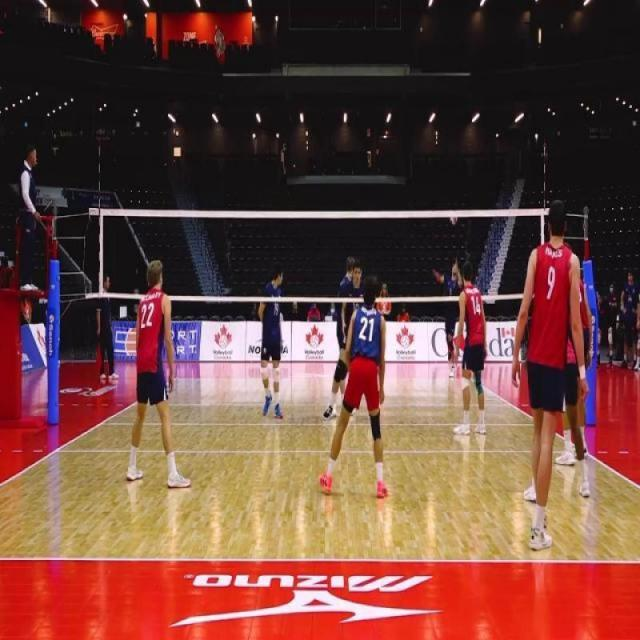volleyball: (449, 217, 458, 226)
